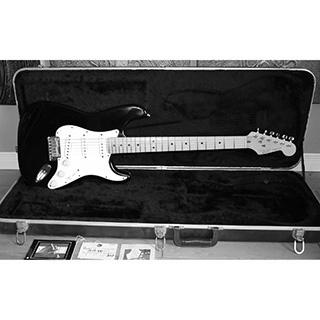Fender Stratocaster: (14, 98, 299, 191)
SSS: (60, 134, 114, 163)
